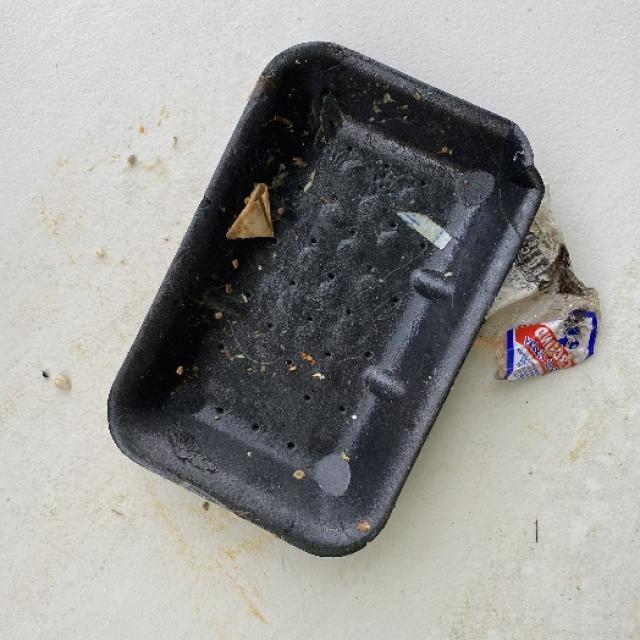inorganic: (105, 37, 542, 559)
